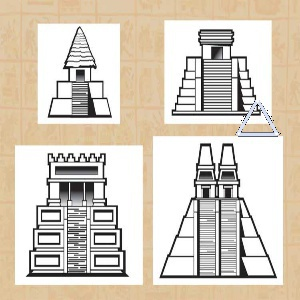triangle: (233, 96, 283, 141)
